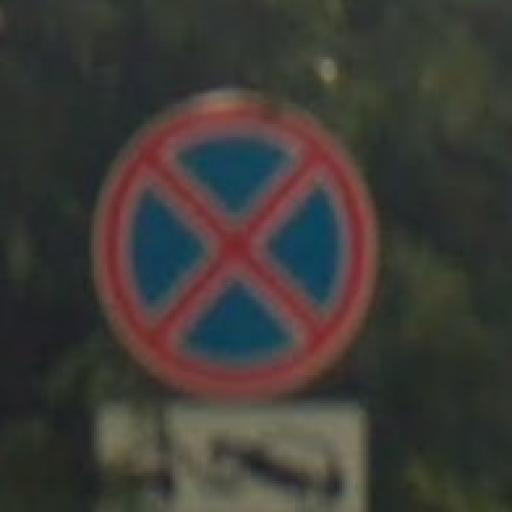traffic_sign: (92, 86, 380, 402)
